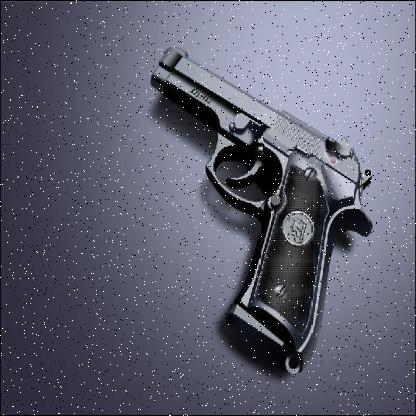pistol: (143, 42, 375, 370)
